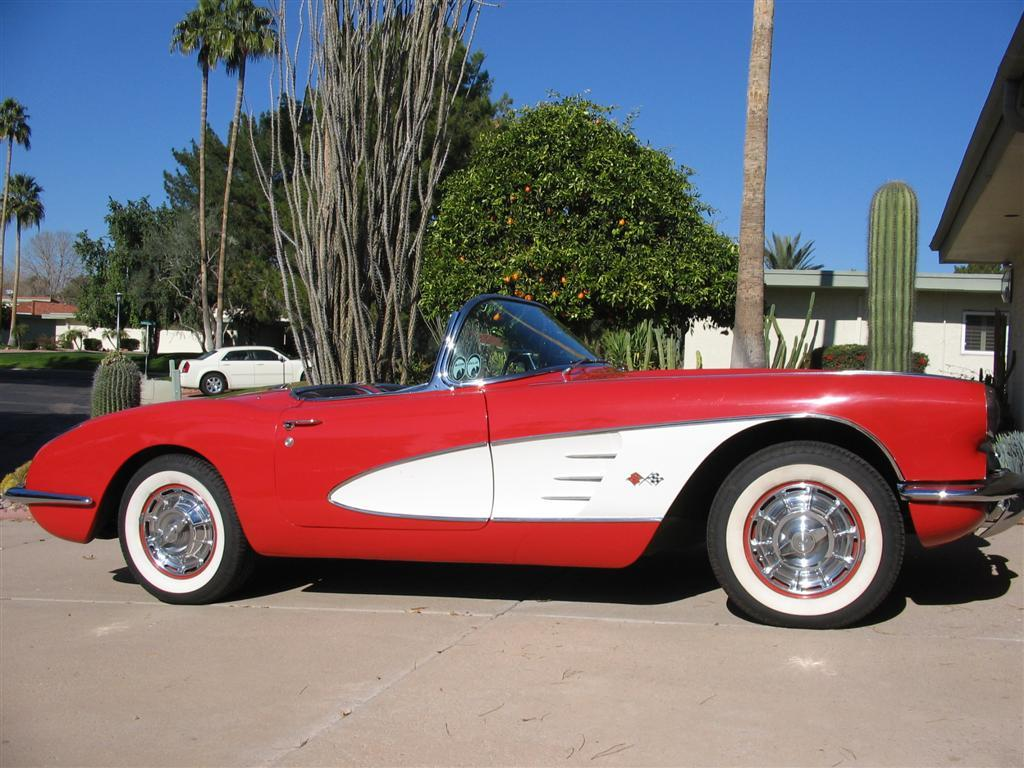Car: (28, 317, 949, 620), (179, 344, 316, 393)
